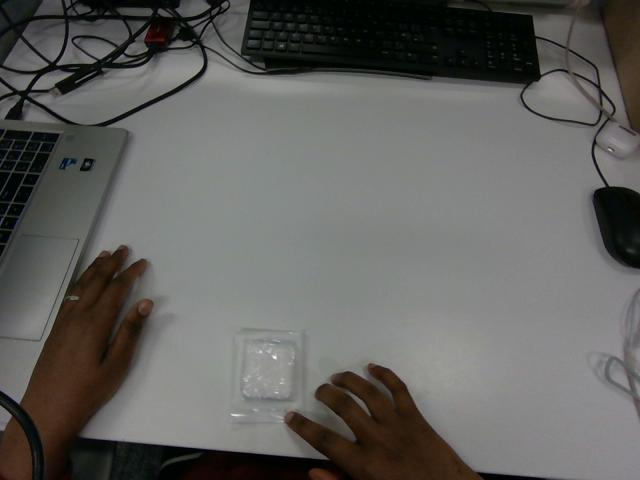gauze: (229, 329, 302, 422)
